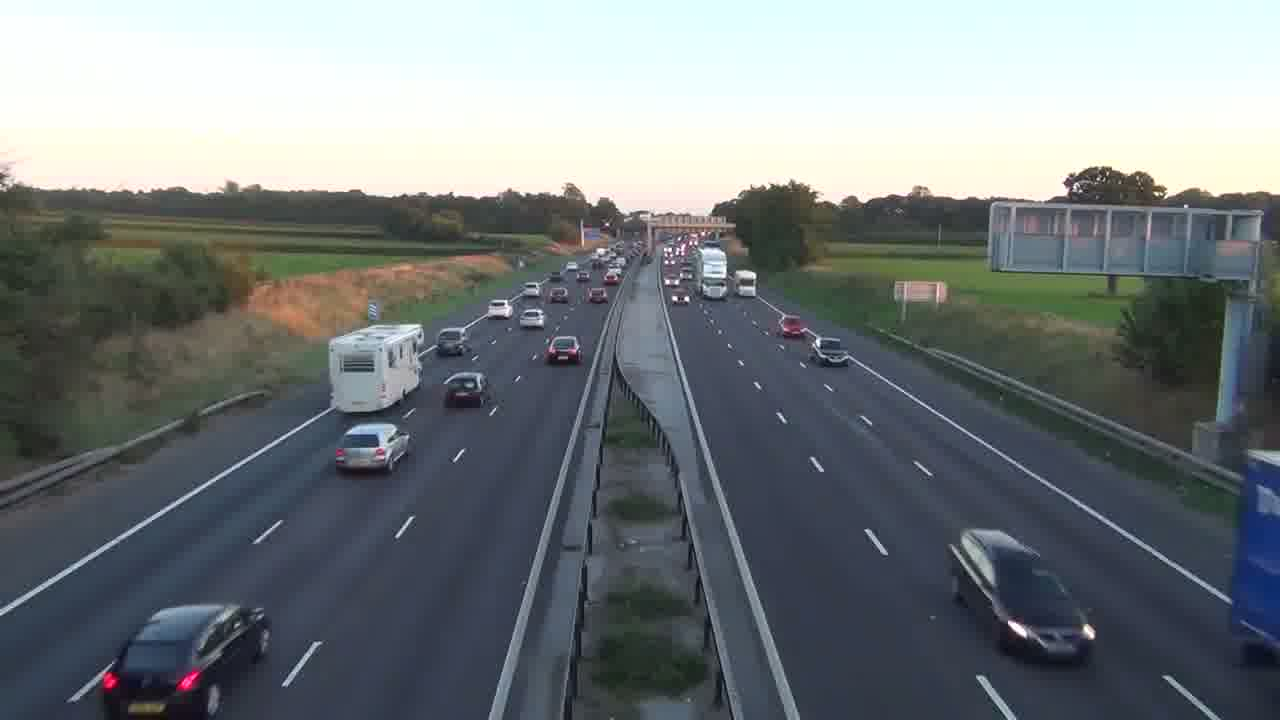car: (100, 602, 272, 719), (333, 424, 413, 474), (442, 370, 486, 408), (544, 335, 582, 366), (436, 326, 468, 356), (518, 307, 545, 329), (486, 299, 513, 319)
truck: (946, 527, 1097, 664), (1229, 450, 1279, 660), (328, 322, 423, 413)
